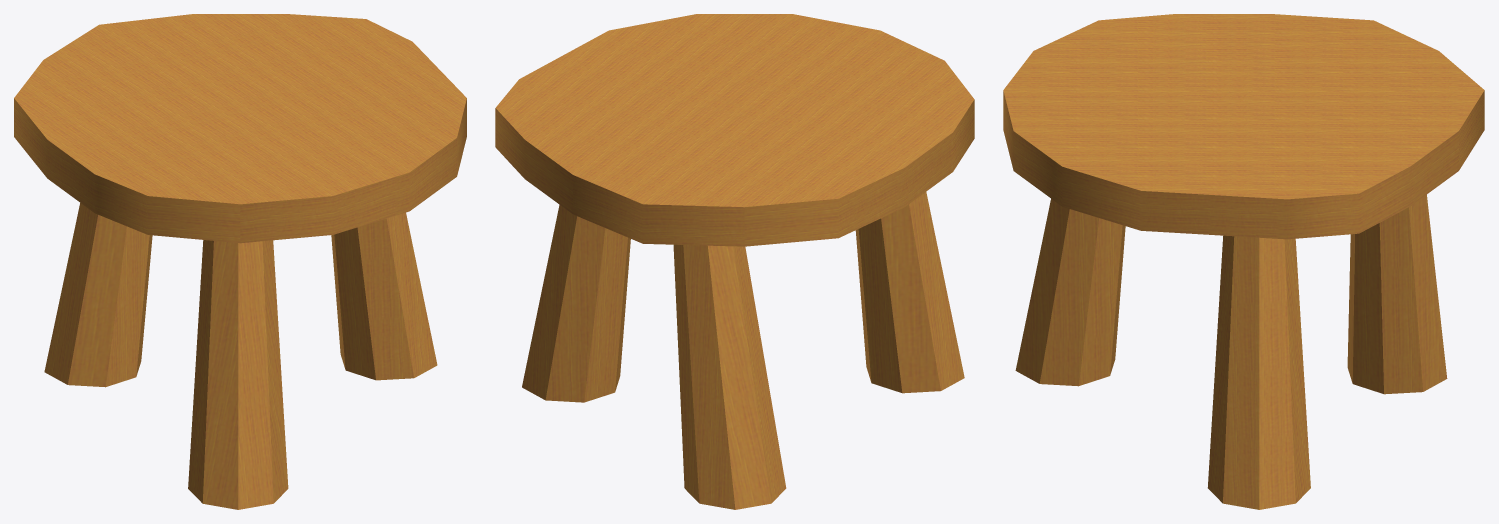
File: stool.fbx
3 renders of one model, left to right at view 1: azimuth 30°, elevation 25°; view 2: azimuth 150°, elevation 25°; view 3: azimuth 270°, elevation 25°, orthographic. The views are drawn at different scales.
Parts seen in each view (by area): view 1: group1_pasted__pCylinder2; view 2: group1_pasted__pCylinder2; view 3: group1_pasted__pCylinder2.
Part boxes in pixels (x1,y1,x2,y2): group1_pasted__pCylinder2: [14, 14, 466, 509]; group1_pasted__pCylinder2: [495, 14, 974, 509]; group1_pasted__pCylinder2: [1003, 14, 1484, 509].
Size of the model in its own units: 7.36 by 5.56 by 7.88.
